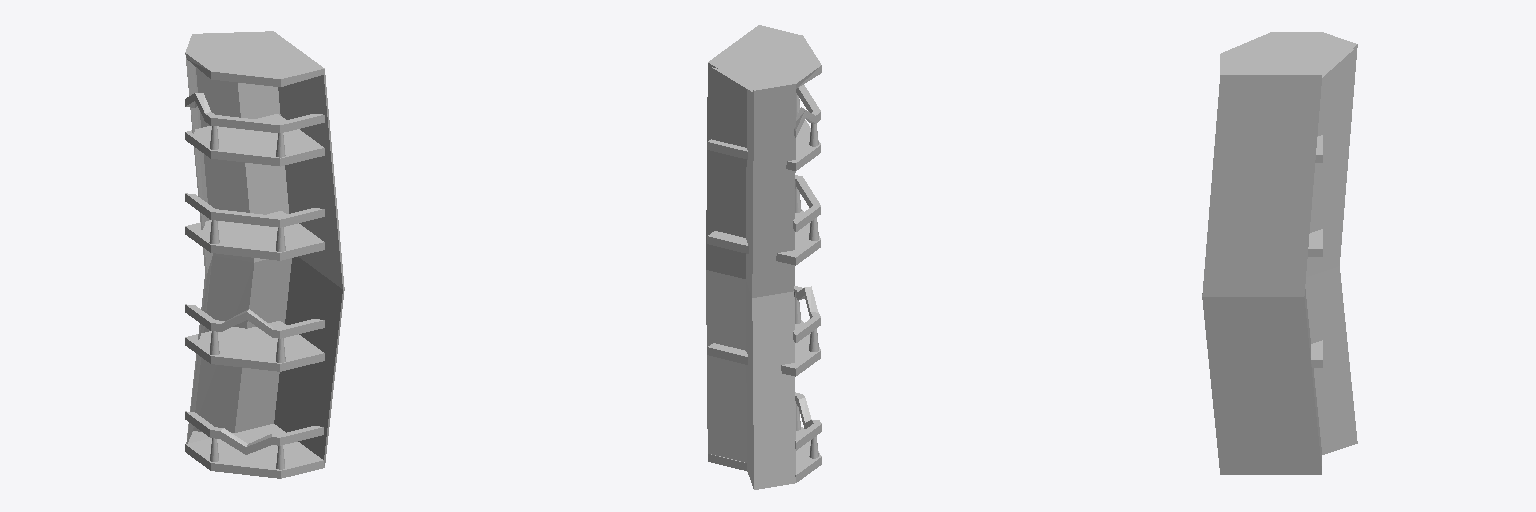
File: meuble d'angle déformé.obj
3 renders of one model, left to right at view 1: azimuth 30°, elevation 25°; view 2: azimuth 150°, elevation 25°; view 3: azimuth 270°, elevation 25°, orthographic.
Parts seen in each view (by area): view 1: Cube; view 2: Cube; view 3: Cube.
Boxes of the visible parts, x1=… form: Cube: x1=185, y1=31, x2=344, y2=478; Cube: x1=706, y1=25, x2=821, y2=489; Cube: x1=1202, y1=32, x2=1357, y2=474.
Size of the model in its own units: 2.25 by 8.63 by 3.05.